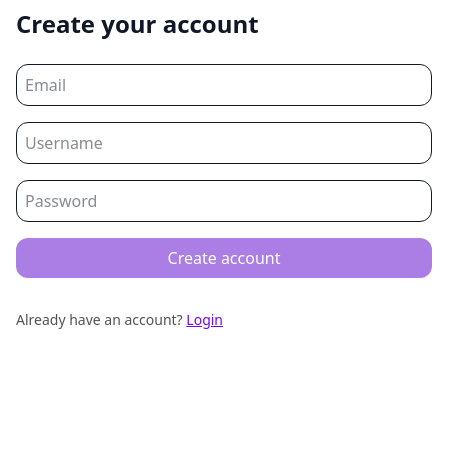
RegisterPage › keeps submit disabled until the form is valid
The image size is (449, 454).
Expected: the button "Create account" is disabled, [16,238,432,278]
Type "invalid-email" into the field with placeholder "Email" at (224, 85), box [16,64,432,106]
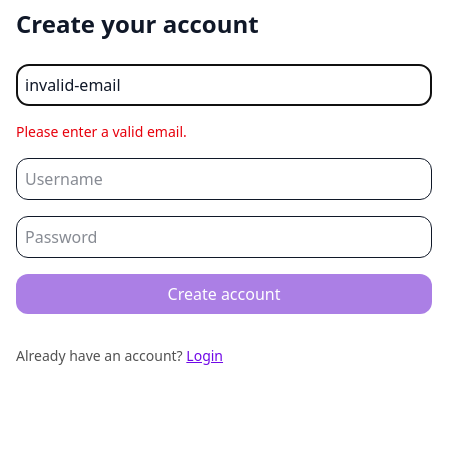
Type "ab" into the field with placeholder "Username" at (224, 179), box [16,158,432,200]
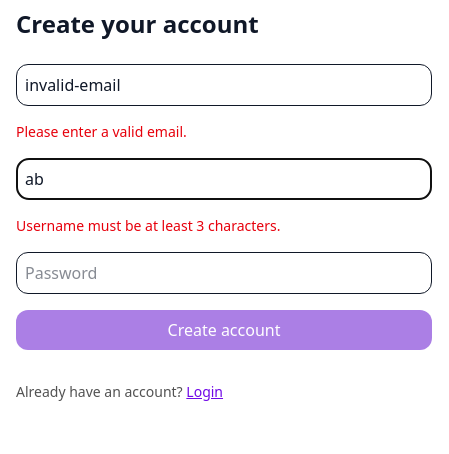
Type "123" into the password field with placeholder "Password" at (224, 273), box [16,252,432,294]
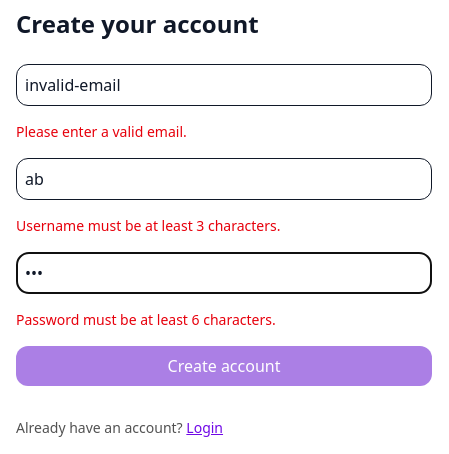
Now the text "Please enter a valid email." is shown, box [16,122,187,141]
Now the text "Username must be at least 3 characters." is shown, box [16,216,280,235]
Now the text "Password must be at least 6 characters." is shown, box [16,310,276,329]
